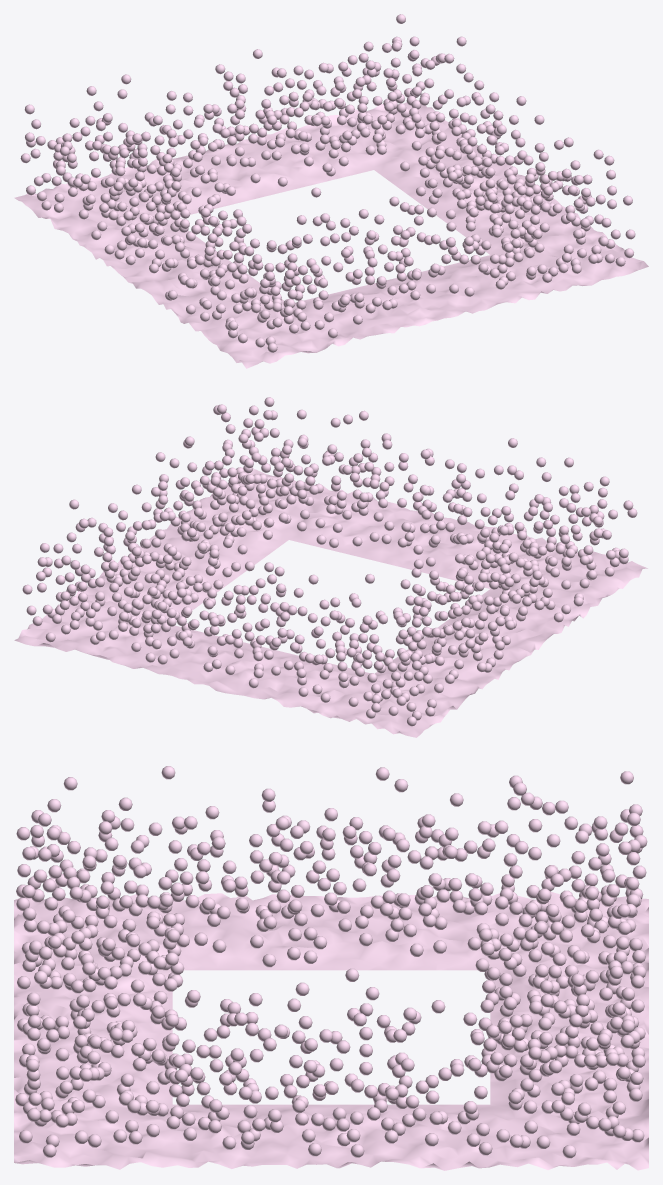
Rendered from borderLight.glb.
The picture shows the model from 3 angles, top to bottom: view 1: azimuth 30°, elevation 25°; view 2: azimuth 150°, elevation 25°; view 3: azimuth 270°, elevation 25°; orthographic projection. The views are drawn at different scales.
Visible parts, largest first — view 1: Balls, BorderGround; view 2: Balls, BorderGround; view 3: Balls, BorderGround.
Boxes of the visible parts, x1,y1,x2,y2 form: Balls: (20, 14, 635, 352); BorderGround: (14, 102, 648, 368); Balls: (22, 397, 637, 726); BorderGround: (14, 467, 647, 737); Balls: (15, 766, 647, 1158); BorderGround: (14, 891, 648, 1170).
Size of what is drawn, in the model's own units: 64 by 16.87 by 64.
Materials: 1 (1 with a texture image).
